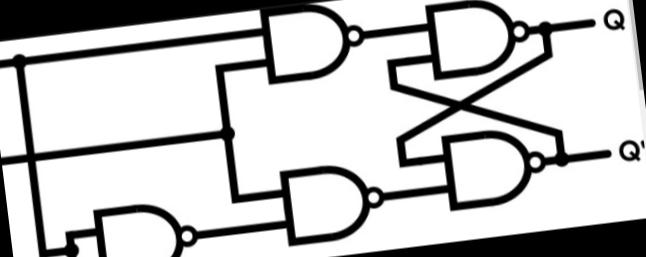nand: (433, 117, 554, 218), (272, 154, 389, 250), (255, 0, 370, 93), (416, 0, 536, 83), (83, 188, 204, 257)
